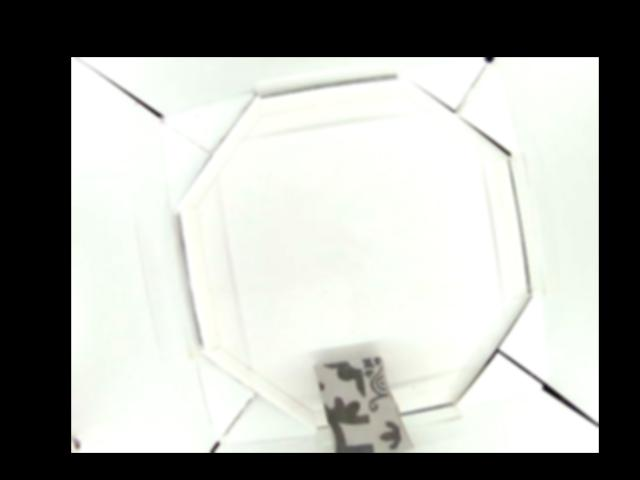China: (314, 356, 419, 452)
